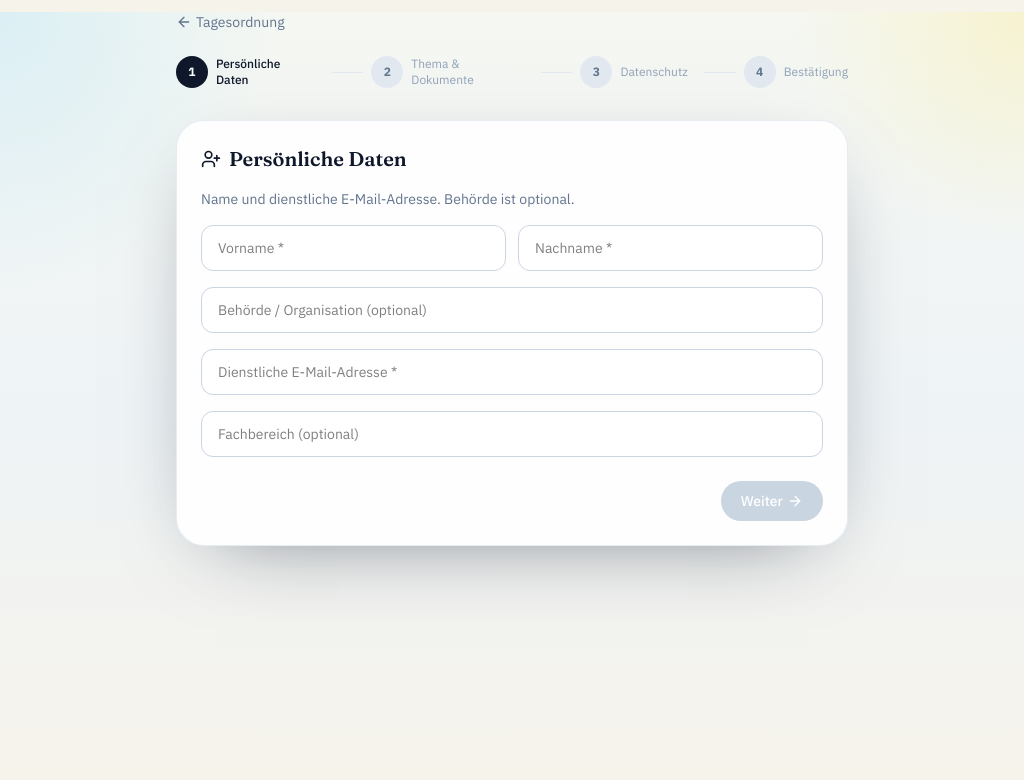
RegisterPage › Weiter-Button wird aktiv nach Ausfuellen der Pflichtfelder
The width and height of the screenshot is (1024, 780).
Type "Max" into the field labelled "Vorname" at (354, 248), box [201,225,506,271]
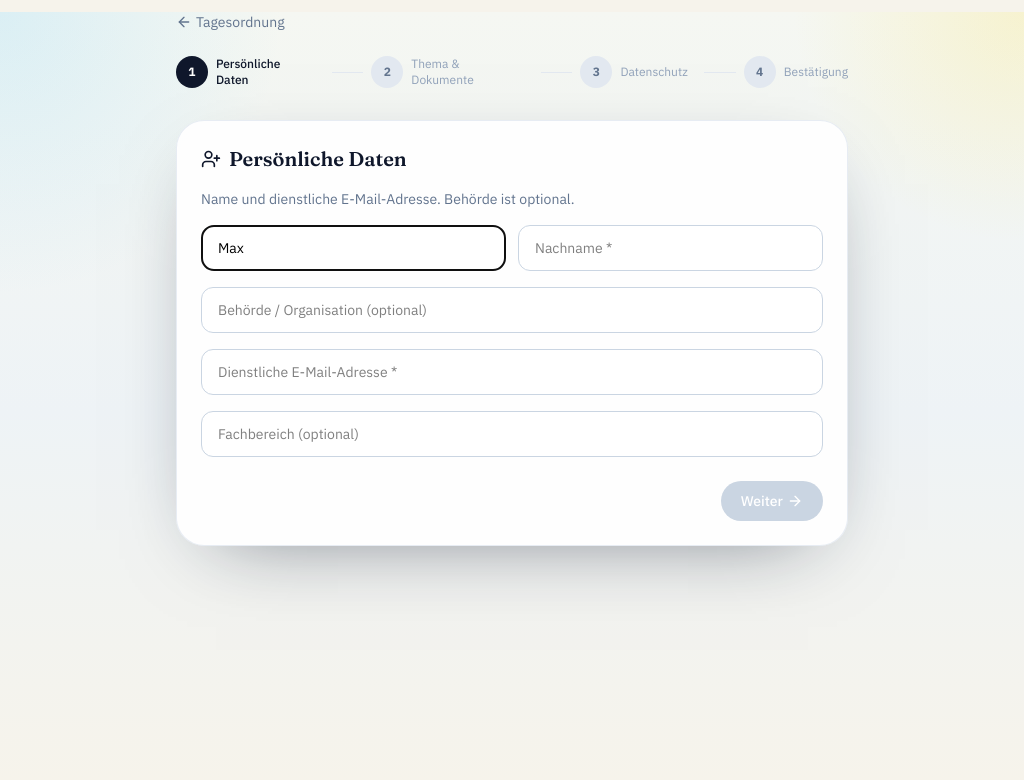
Type "Mustermann" into the field labelled "Nachname" at (670, 248), box [518,225,823,271]
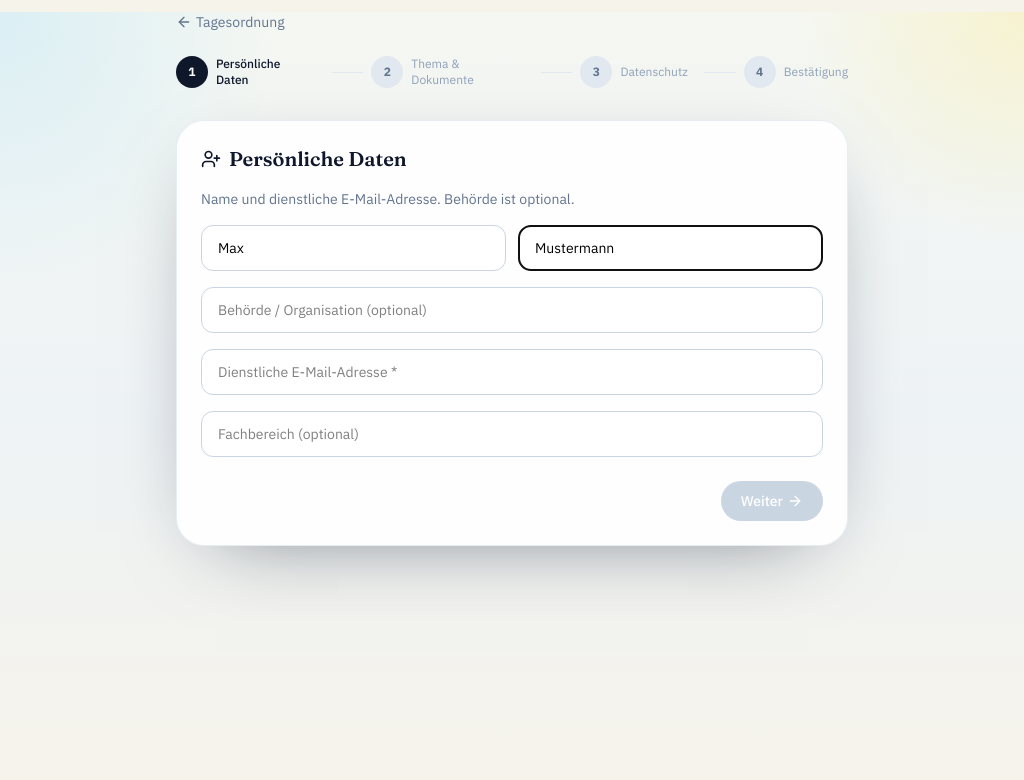
Type "NBank" into the field labelled "Behörde / Organisation (optional)" at (512, 310), box [201,287,823,333]
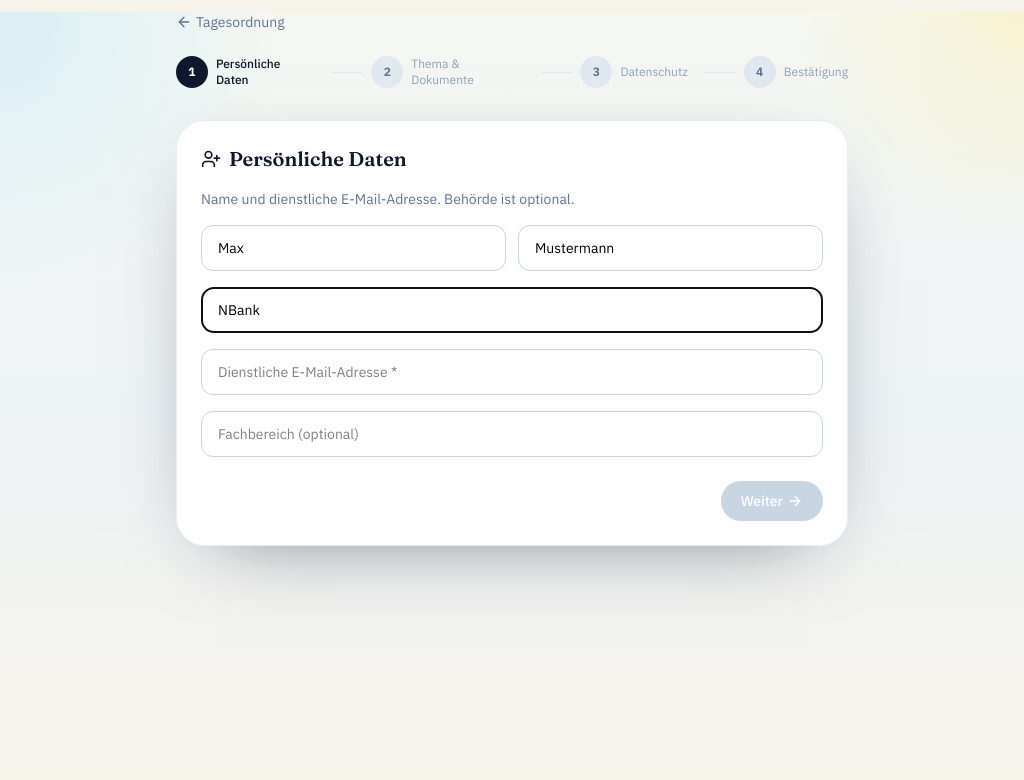
Type "max@nbank.de" into the field labelled "Dienstliche E-Mail-Adresse *" at (512, 372), box [201,349,823,395]
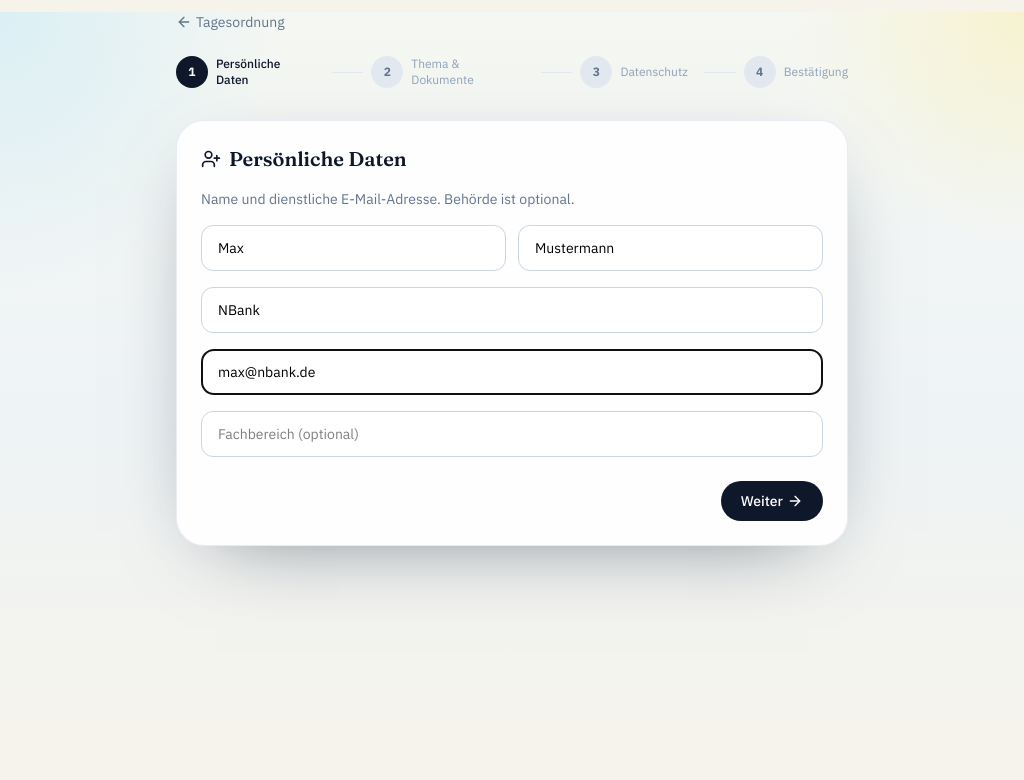
Check: the button "Weiter" is enabled, box [721,481,823,521]
